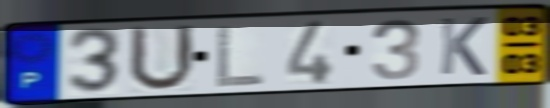3: (65, 25, 124, 97), (369, 17, 423, 81)
4: (283, 18, 336, 87)
K: (436, 15, 489, 78)
L: (213, 22, 268, 90)
U: (125, 23, 199, 94)
